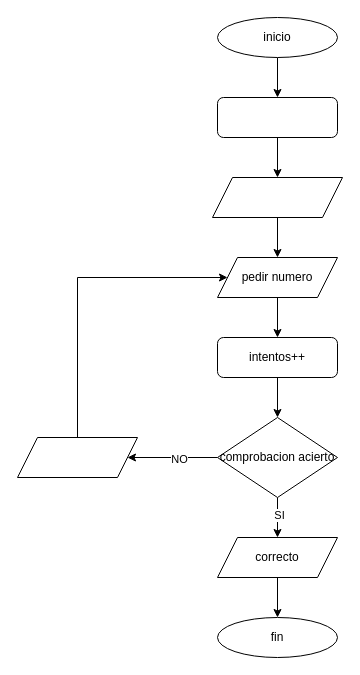
This 360x675 diagram has some shape labels left out. The shapes that lost their labels are listed below. From the top down, each one's centre as x and y in pixels, then its label:
At (x=277, y=117): "-numSecreto -intentos".
At (x=277, y=197): "mostrar mensaje".
At (x=77, y=457): "fallo".
